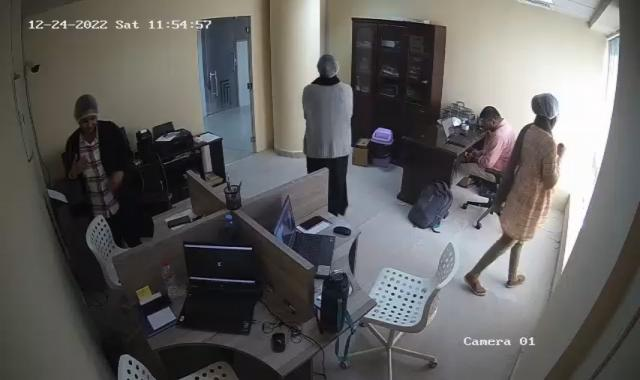hairnet: (72, 92, 103, 133), (532, 92, 560, 127), (316, 54, 340, 84)
no_hairnet: (480, 105, 502, 134)
